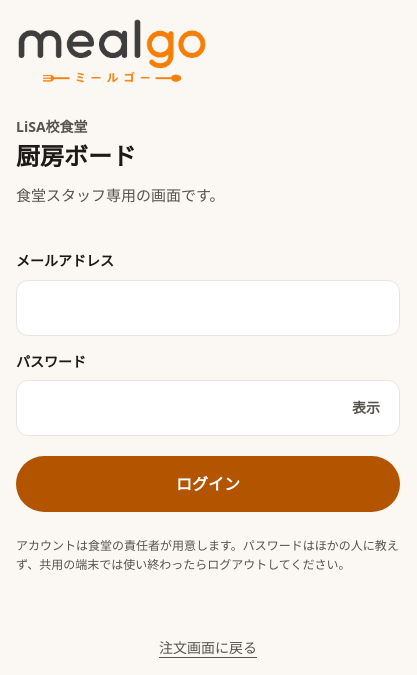
Test: スタッフのログイン画面 › 空のままでは送らない
Click the button "ログイン".
click(208, 484)  # box [16, 456, 400, 512]
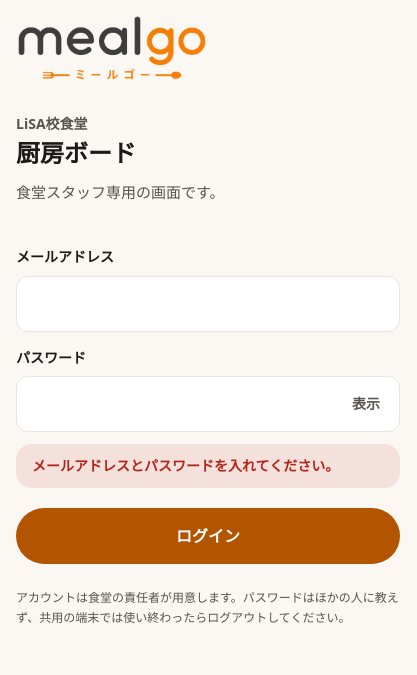
Check: the message "メールアドレスとパスワードを入れてください。" is shown, box [16, 444, 400, 488]
